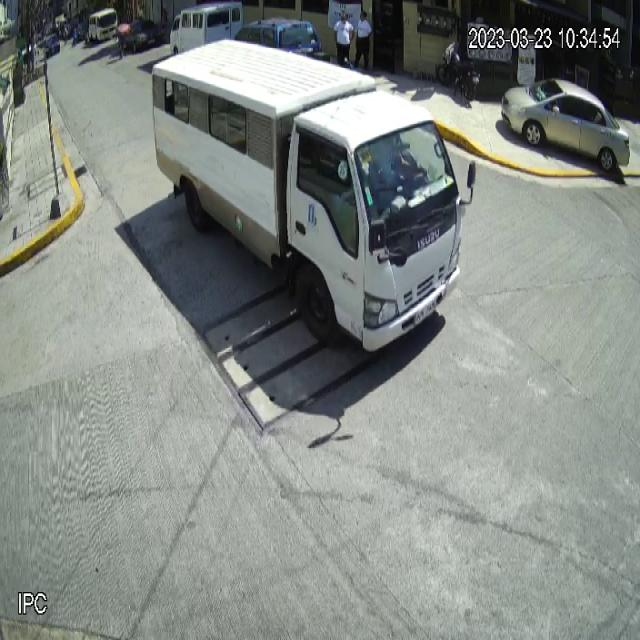Car: (501, 78, 632, 173)
Van: (150, 36, 478, 365)
